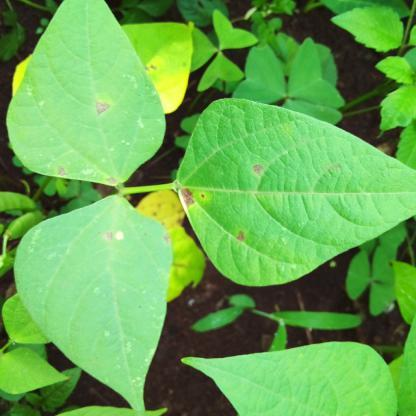Beans_Angular_LeafSpot: (177, 104, 416, 286), (18, 199, 174, 416), (9, 0, 158, 189)
